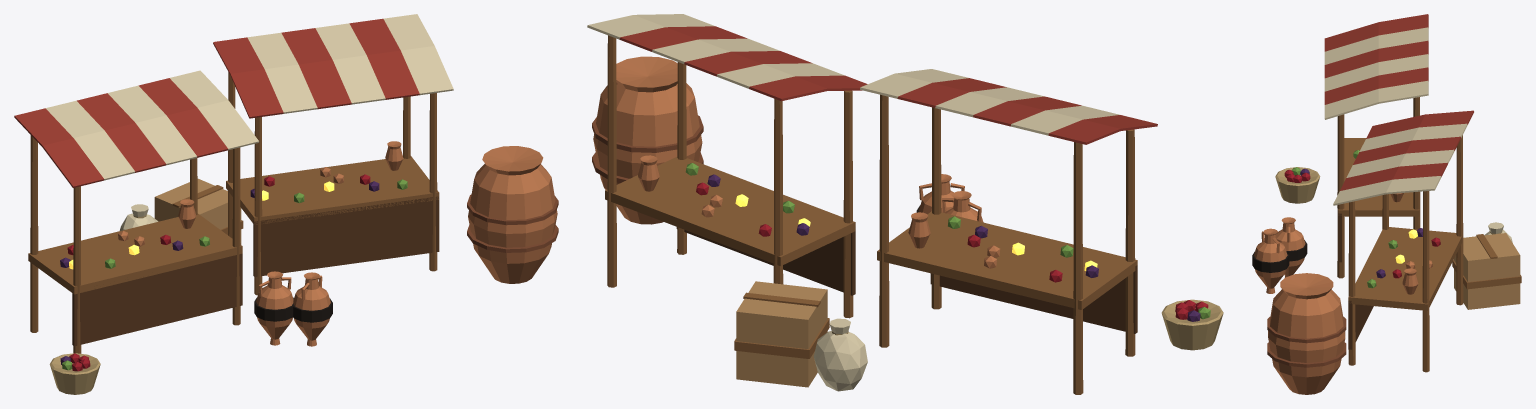
Rendered from Market_Corner.glb.
3 views of the same model, side by side, from view 1: azimuth 30°, elevation 25°; view 2: azimuth 150°, elevation 25°; view 3: azimuth 270°, elevation 25° (orthographic). The views are drawn at different scales.
Parts seen in each view (by area): view 1: Stall.002, Stall.001, Pithos.001, Crate.001, Amphora.001, Amphora.002, Basket.001, Sack.001; view 2: Stall.001, Stall.002, Pithos.001, Crate.001, Sack.001, Basket.001, Amphora.001, Amphora.002; view 3: Stall.002, Stall.001, Pithos.001, Crate.001, Amphora.002, Basket.001, Amphora.001.
Part boxes in pixels (left/top/right/bottom): Stall.002: left=213, top=14, right=453, bottom=295; Stall.001: left=14, top=70, right=259, bottom=353; Pithos.001: left=467, top=146, right=558, bottom=283; Crate.001: left=154, top=178, right=243, bottom=244; Amphora.001: left=254, top=271, right=293, bottom=345; Amphora.002: left=293, top=272, right=332, bottom=346; Basket.001: left=49, top=353, right=100, bottom=394; Sack.001: left=119, top=204, right=158, bottom=230; Stall.001: left=860, top=69, right=1157, bottom=394; Stall.002: left=587, top=14, right=867, bottom=318; Pithos.001: left=592, top=56, right=703, bottom=224; Crate.001: left=734, top=281, right=829, bottom=387; Sack.001: left=813, top=318, right=867, bottom=391; Basket.001: left=1161, top=299, right=1223, bottom=350; Amphora.001: left=942, top=191, right=983, bottom=222; Amphora.002: left=916, top=174, right=964, bottom=214; Stall.002: left=1333, top=110, right=1473, bottom=372; Stall.001: left=1324, top=14, right=1428, bottom=278; Pithos.001: left=1267, top=273, right=1346, bottom=394; Crate.001: left=1452, top=233, right=1521, bottom=309; Amphora.002: left=1252, top=228, right=1289, bottom=293; Basket.001: left=1275, top=167, right=1320, bottom=203; Amphora.001: left=1276, top=217, right=1307, bottom=277.
Size of the model in its own units: 5.7 by 2.31 by 2.99.
